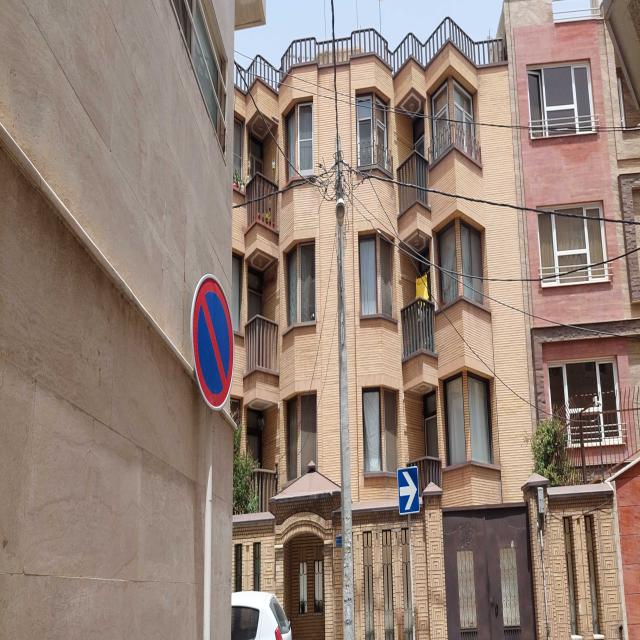forb_stopping: (191, 272, 234, 414)
